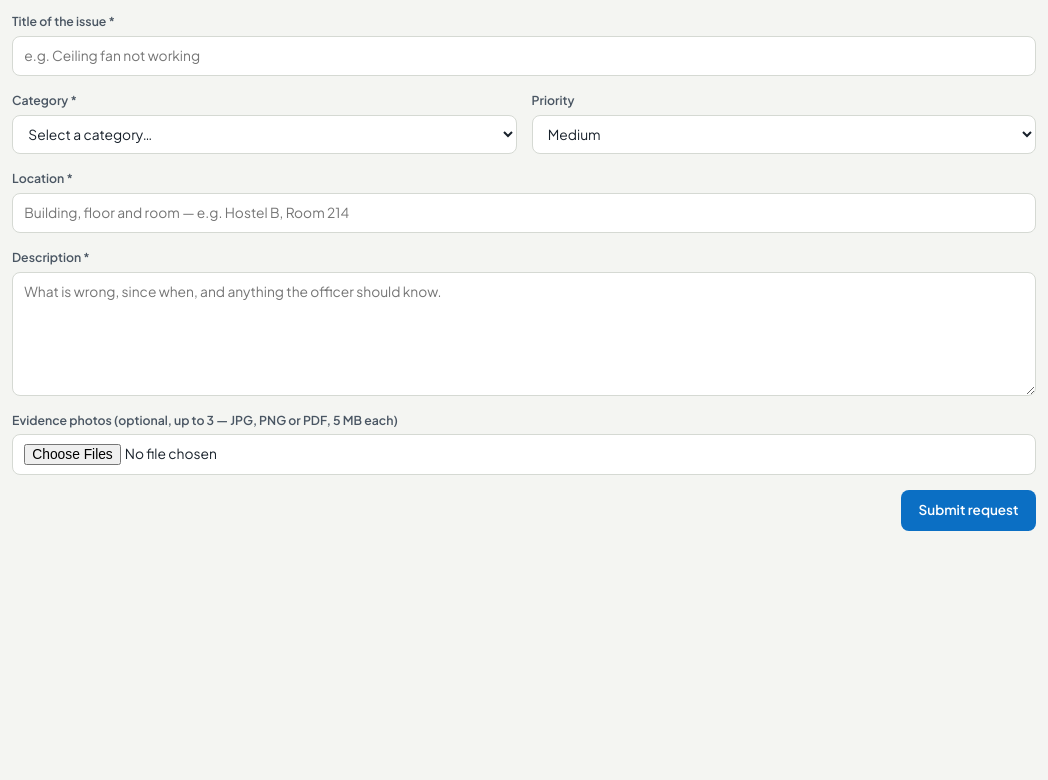
Test: RequestForm › shows validation messages and does not submit an empty form
Click the button "Submit request".
click(968, 510)  # box [901,490,1036,531]
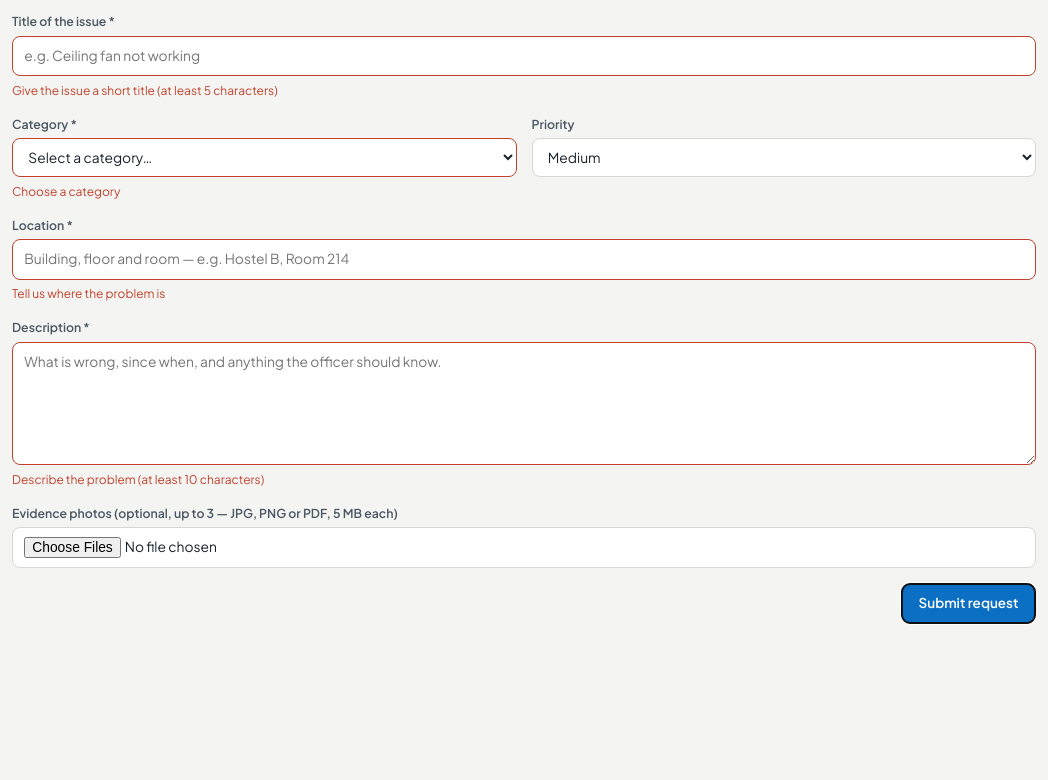
Check: the text "Give the issue a short title (at least 5 characters)" is shown, box [12,83,278,98]
Check: the text "Choose a category" is shown, box [12,184,120,199]
Check: the text "Tell us where the problem is" is shown, box [12,286,165,301]
